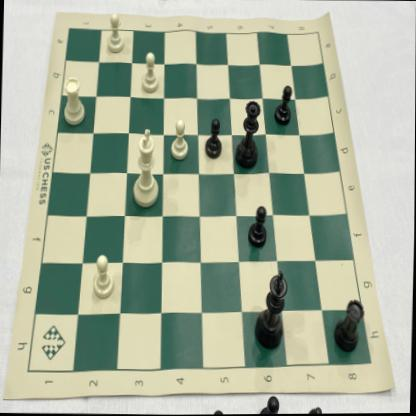black-king: (252, 265, 289, 354)
black-pawn: (246, 203, 271, 250), (272, 82, 295, 127), (203, 115, 225, 161)
black-queen: (232, 98, 264, 172)
black-rook: (332, 296, 366, 357)
white-king: (129, 125, 162, 209)
white-pawn: (90, 250, 116, 302), (138, 50, 162, 96), (102, 11, 127, 55), (168, 117, 191, 162)
white-rook: (60, 74, 89, 126)
